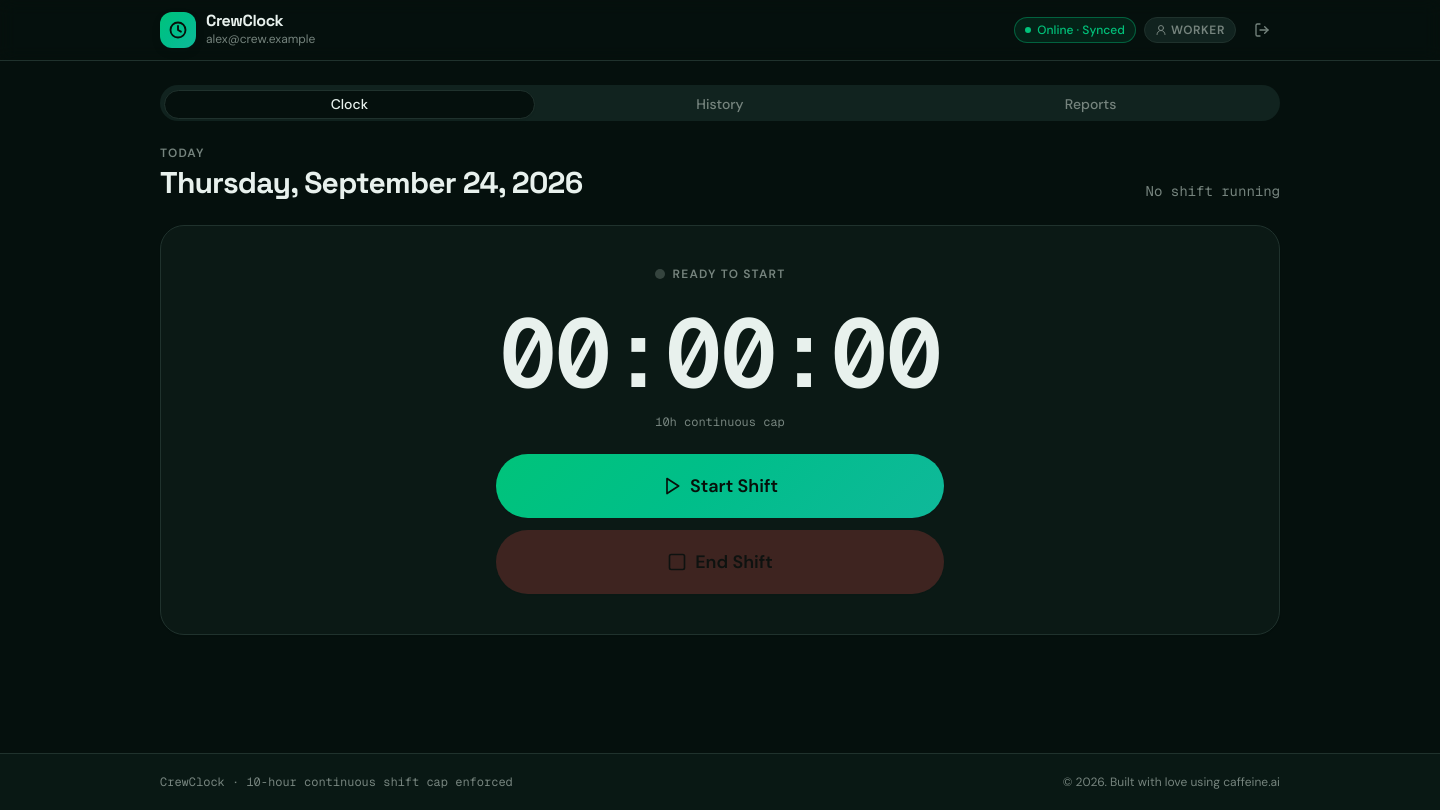
Scenario: App › navigates between clock, history, and reports tabs
Click the tab with test id "app.history.tab". click: [720, 104]
box: [535,90,905,118]
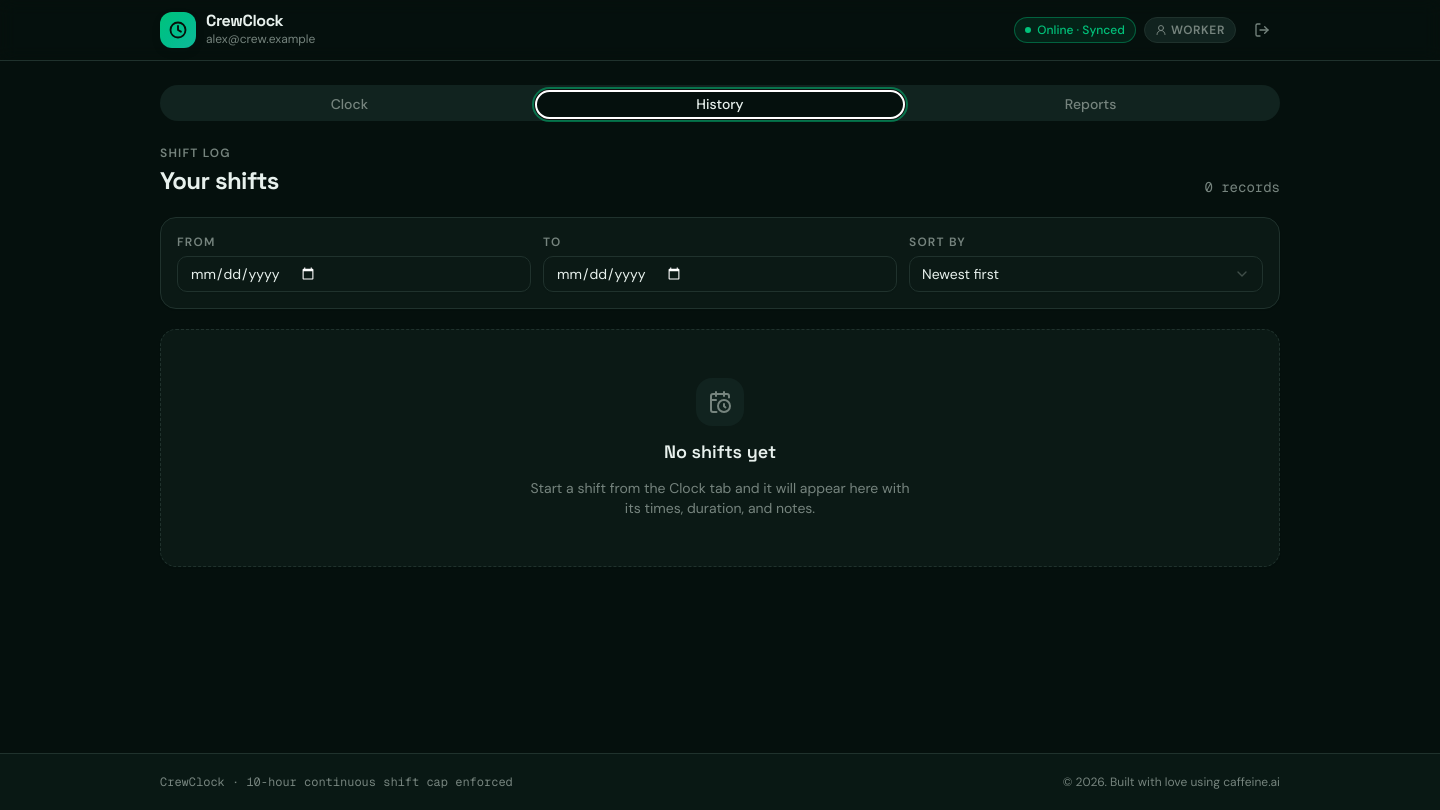
Result: the element with test id "history.section" is shown at [160,145,1280,567]
Click the tab with test id "app.reports.tab". click: [1091, 104]
box: [905,90,1276,118]
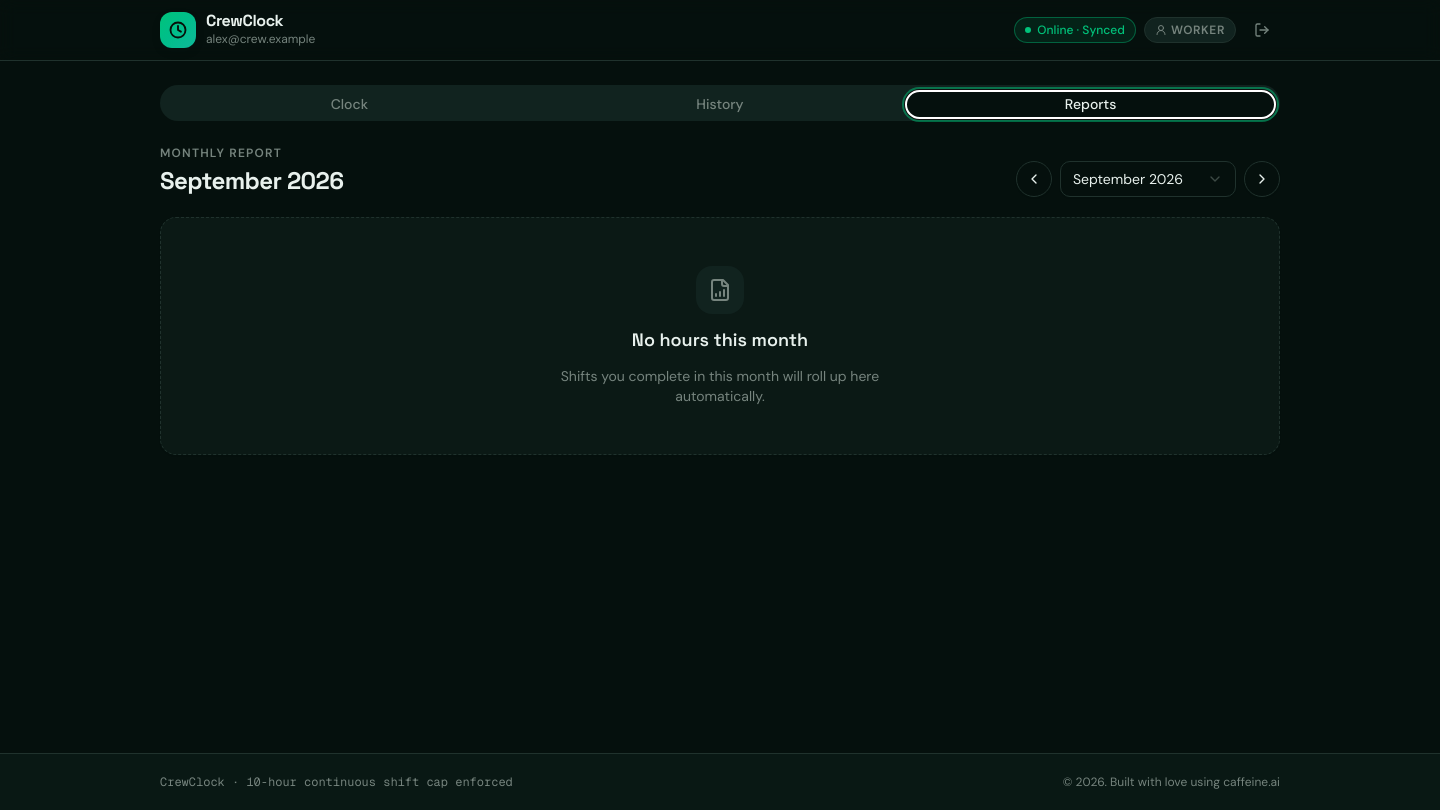
Result: the element with test id "reports.section" is shown at [160,145,1280,455]
Click the tab with test id "app.clock.tab". click: [349, 104]
box: [164,90,535,118]
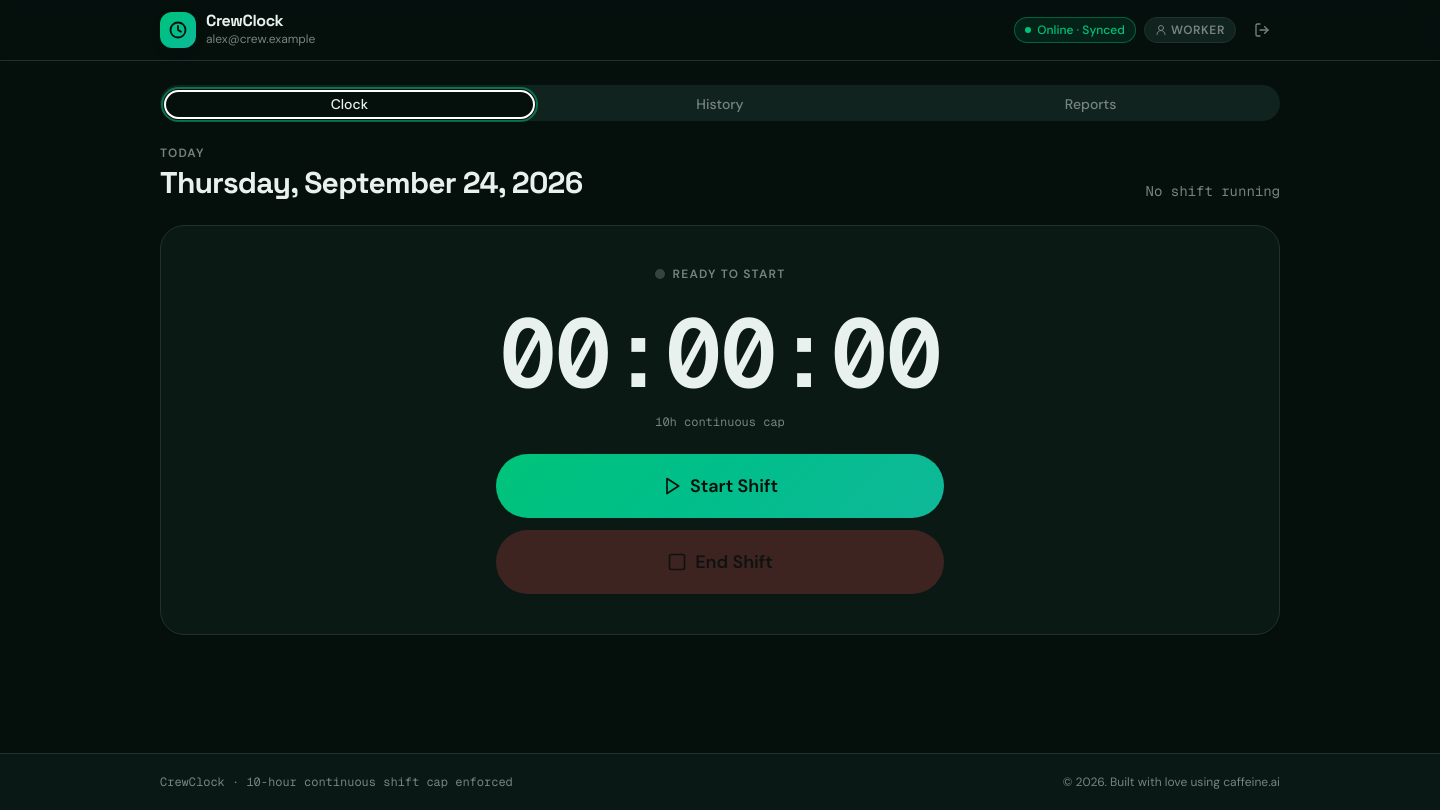
Result: the element with test id "clock.section" is shown at [160,145,1280,635]
